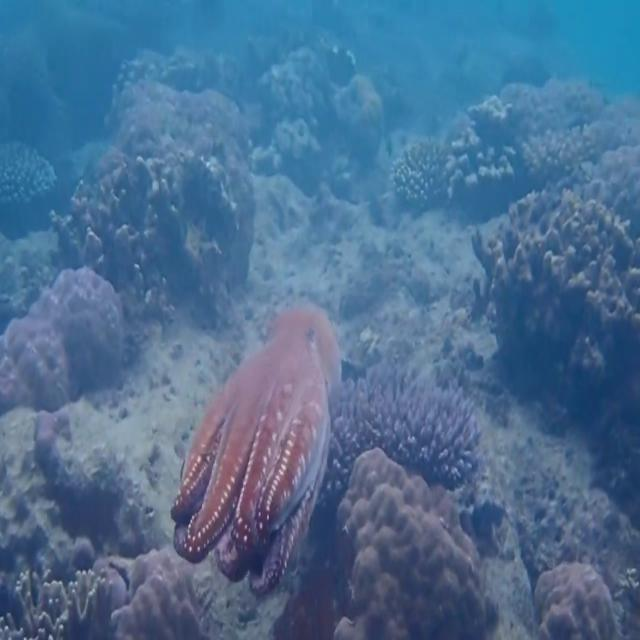octopus: (170, 301, 344, 594)
